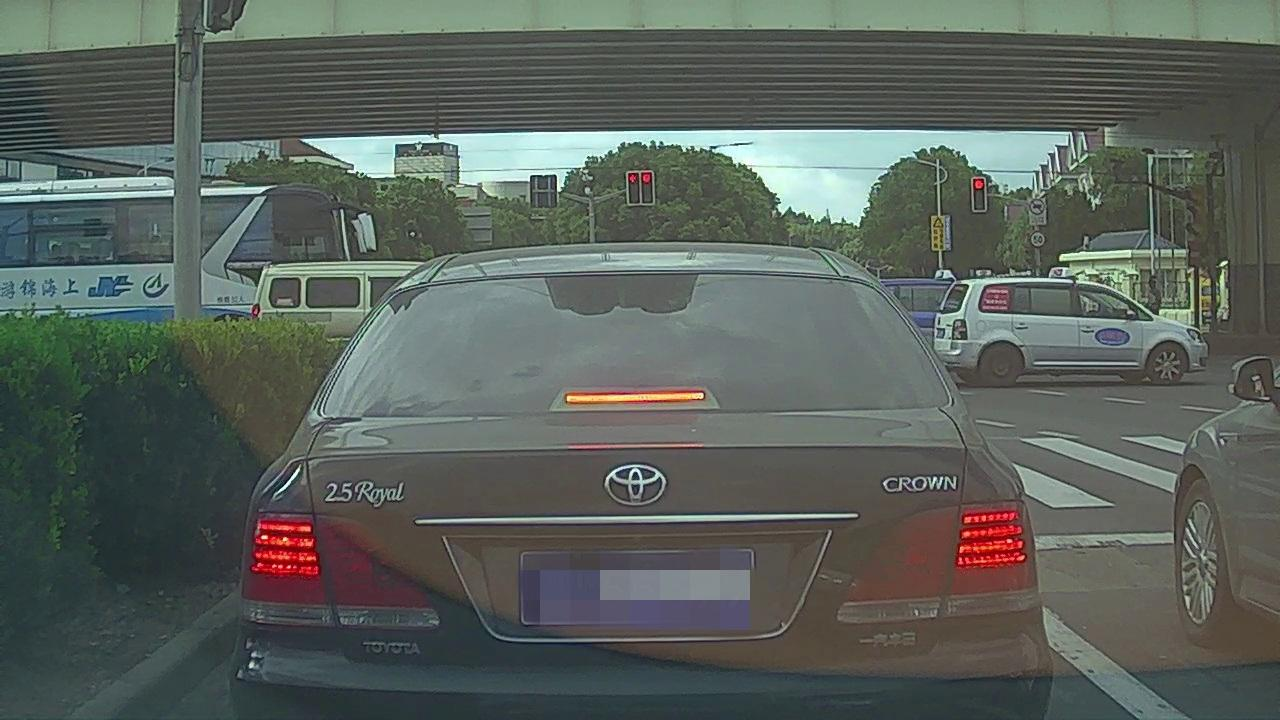traffic_light: (973, 178, 987, 211), (642, 171, 654, 205), (628, 171, 640, 203)
